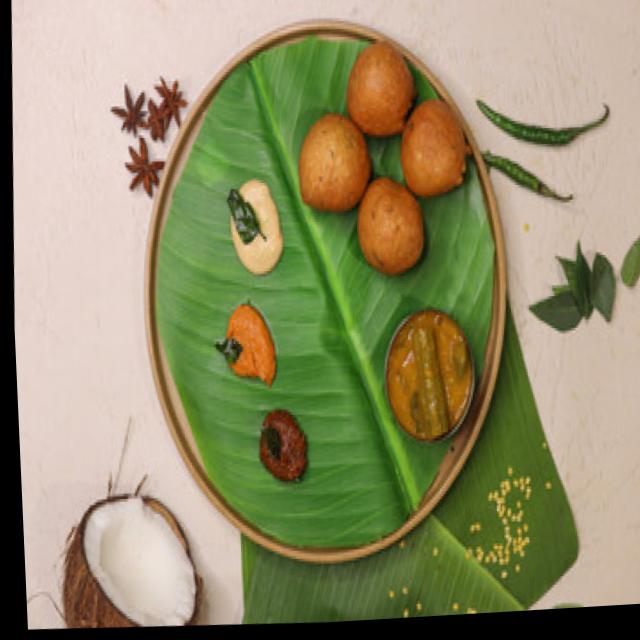BONDA: (300, 44, 466, 275)
PICKLE: (257, 408, 309, 487)
RED CHUTNEY: (222, 302, 280, 392)
SAMBAR: (389, 313, 472, 442)
WHITE CHUTNEY: (229, 182, 281, 271)
